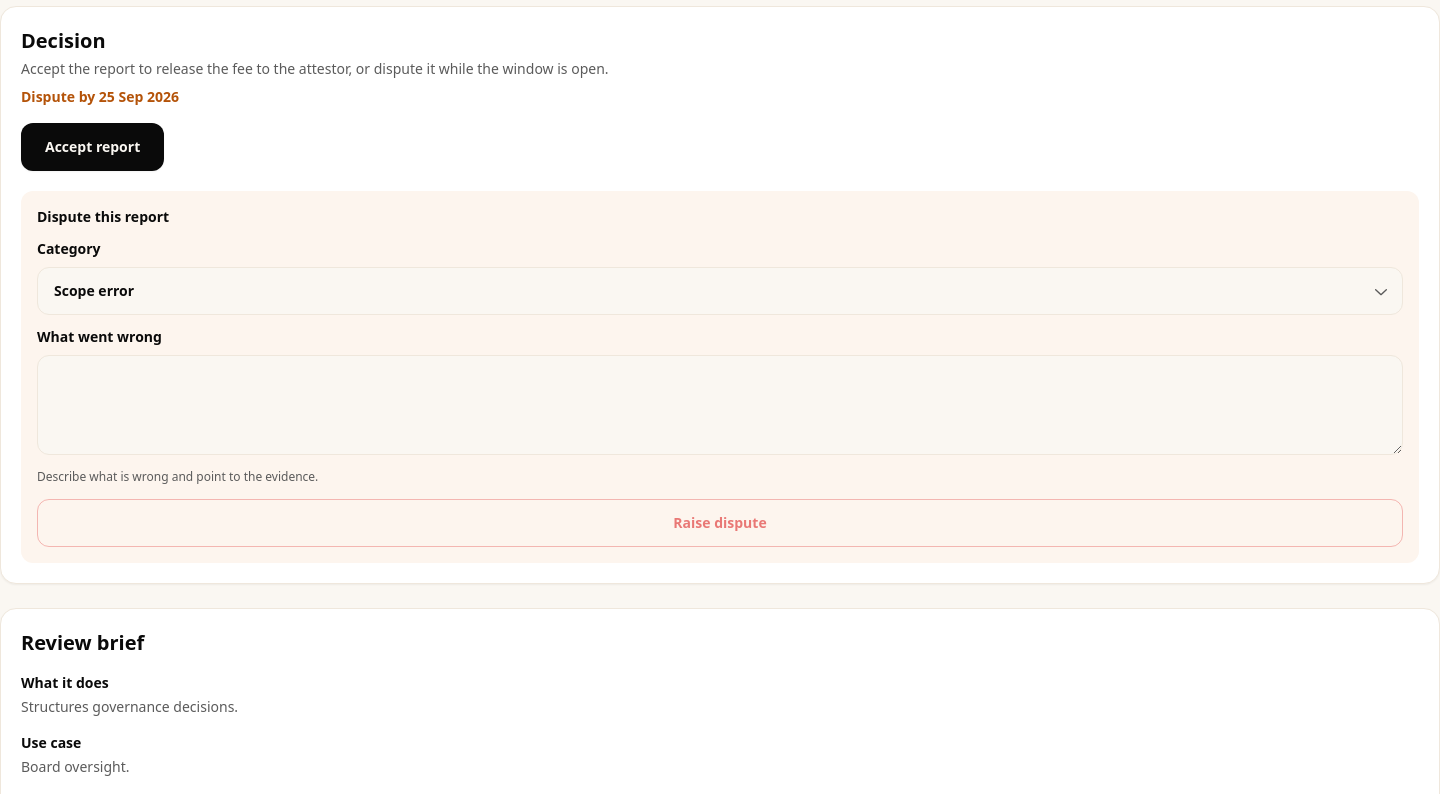
Test case: AttestationDetail › leaves evidence length to the server when no floor is served
This screenshot has width=1440, height=794.
(page scrolled)
Expected: the text "Dispute by 25 Sep 2026" is shown, [21,87,179,106]
Type "Short." into the text box labelled "What went wrong" at (720, 405), box [37,355,1403,455]
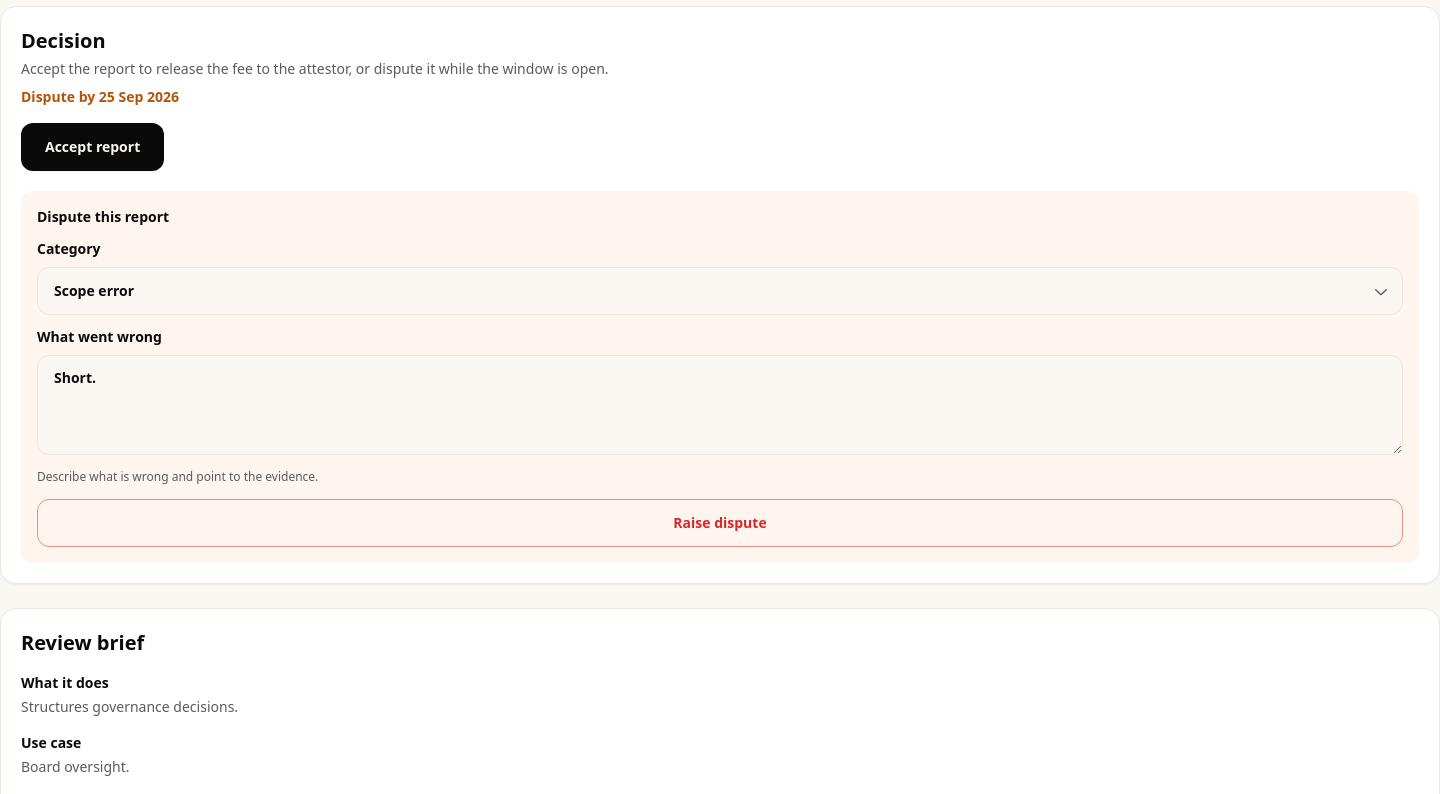
Expected: the text "Describe what is wrong and point to the evidence." is shown, [37,468,318,485]
Now the button "Raise dispute" is enabled, box [37,499,1403,547]
